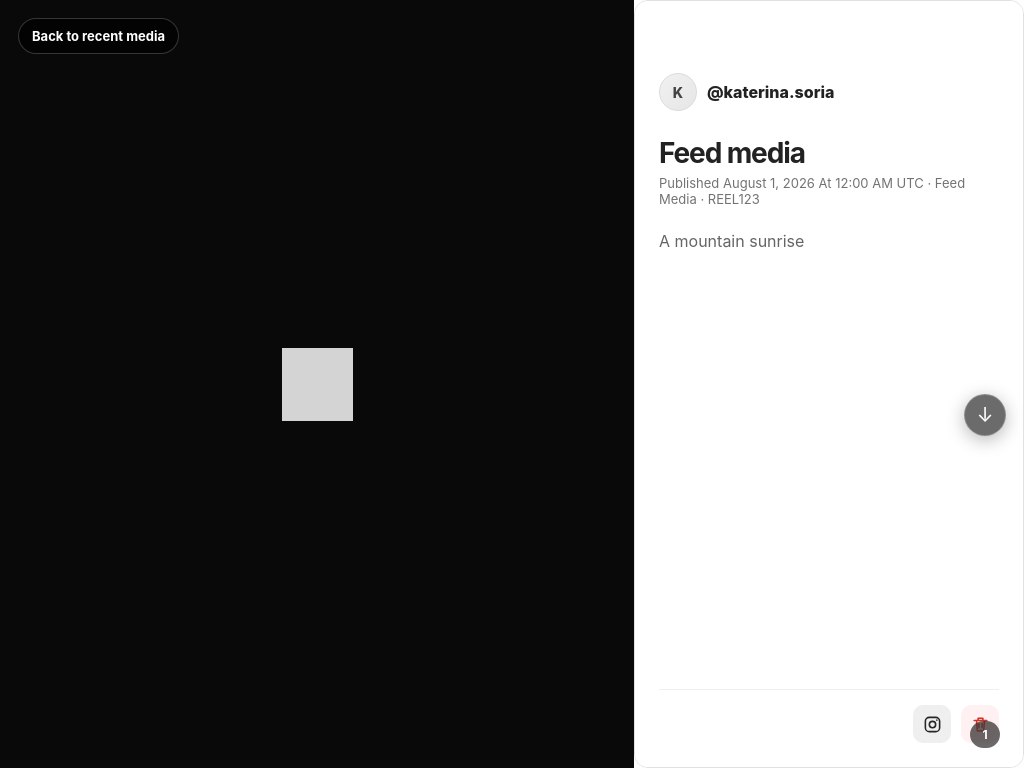
Scenario: MediaViewerPage › keeps the next control available and advances after the boundary page loads
Click the button named "Next media": (985, 415) [964, 394, 1006, 436]
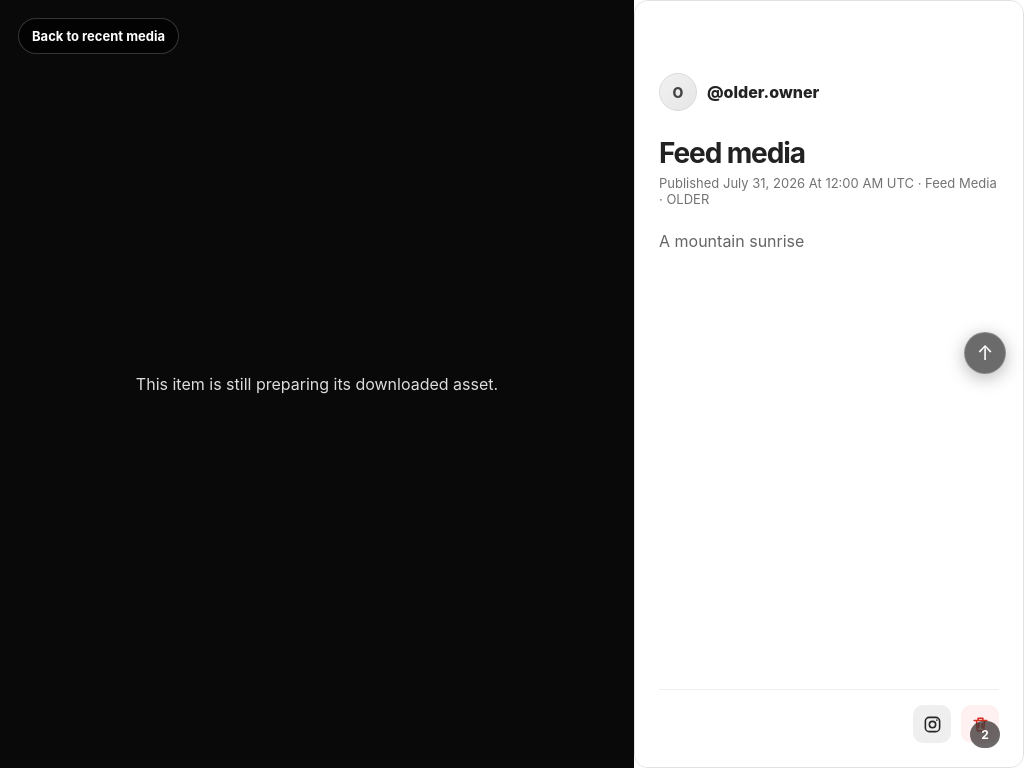
Expected: the element named "Feed media OLDER" is shown
